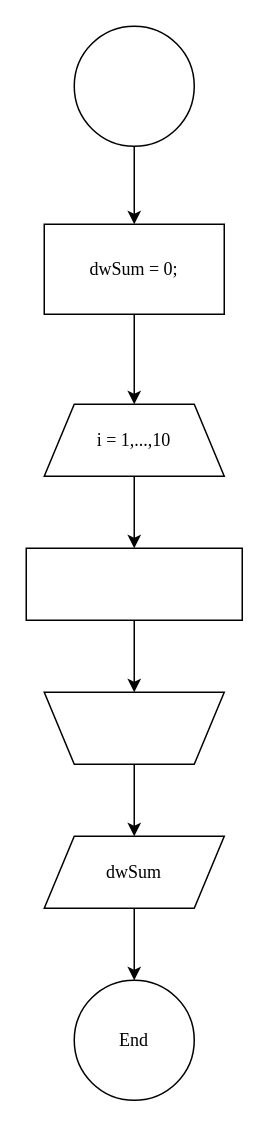
The diagram is 269 pixels wide and 1127 high, and some of its shapes have lost their labels. Here are the shapes that lost their labels. From the top down, the centre of each, then its label:
At point (133, 85): "Beg".
At point (133, 583): "dwSum += i;".
